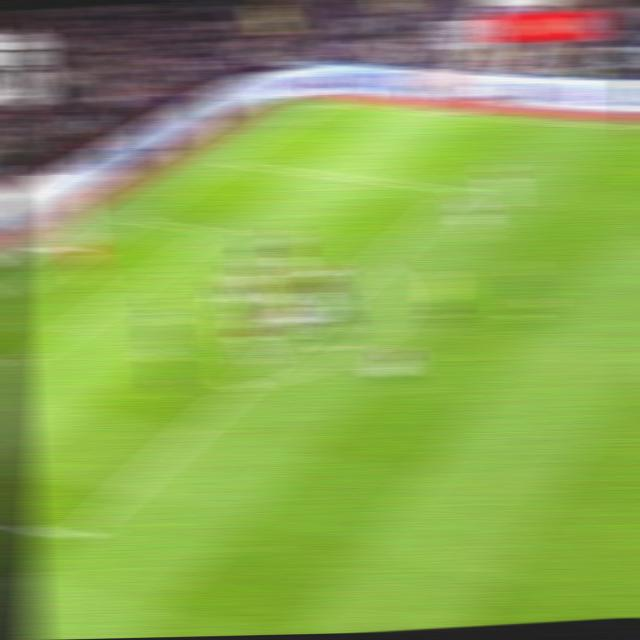bigarea_bottom_inner: (53, 516, 97, 553)
bigarea_top_inner: (445, 178, 481, 201)
bigarea_top_outter: (214, 151, 247, 170)
bottom_arc_area_intersection: (224, 372, 261, 399)
corner: (306, 95, 341, 111)
smallarea_bottom_inner: (3, 352, 32, 378)
smallarea_top_inner: (198, 219, 233, 242)
smallarea_top_outter: (118, 207, 154, 229)
top_arc_area_intersection: (359, 254, 392, 276)
